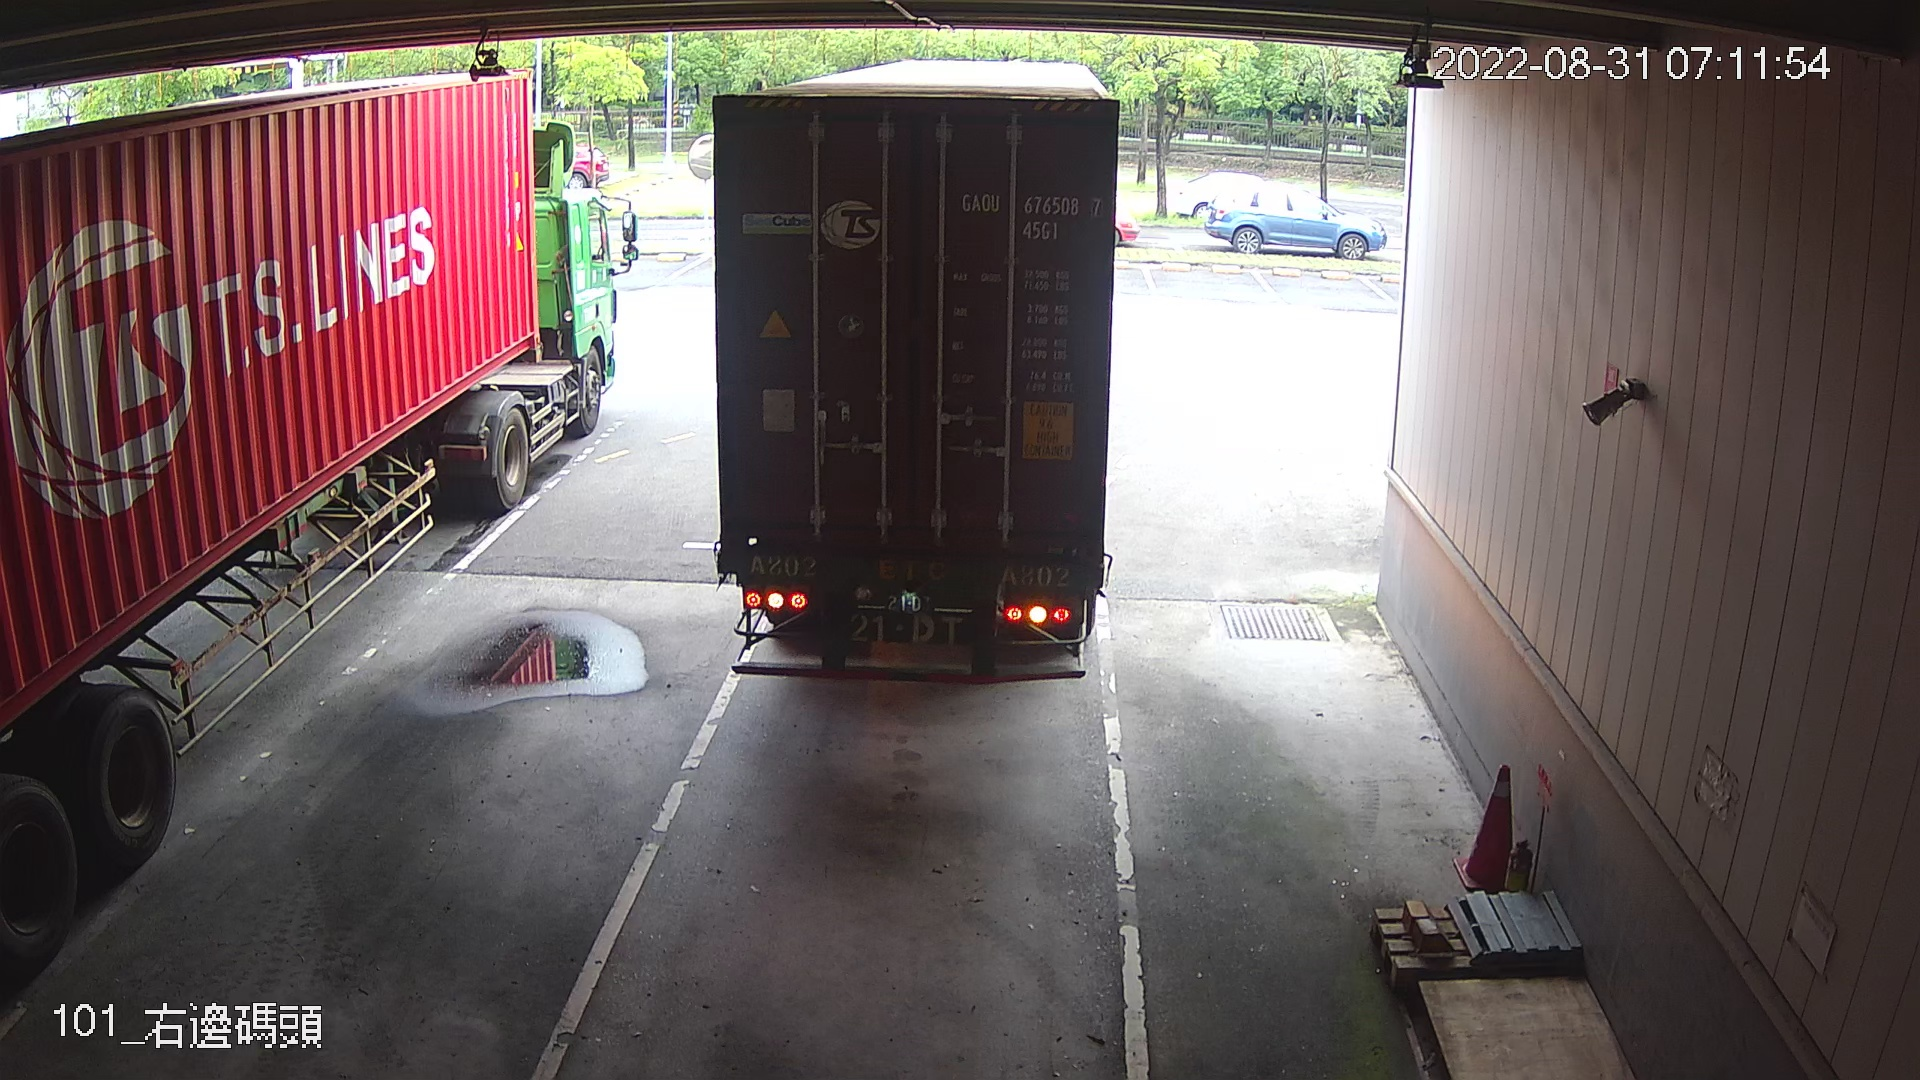container: (953, 185, 1109, 248)
